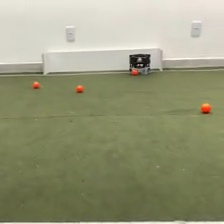ball: (200, 101, 212, 114), (75, 82, 84, 93), (31, 80, 41, 89), (131, 67, 139, 75)
goal: (41, 46, 165, 76)
robot: (127, 52, 152, 75)
